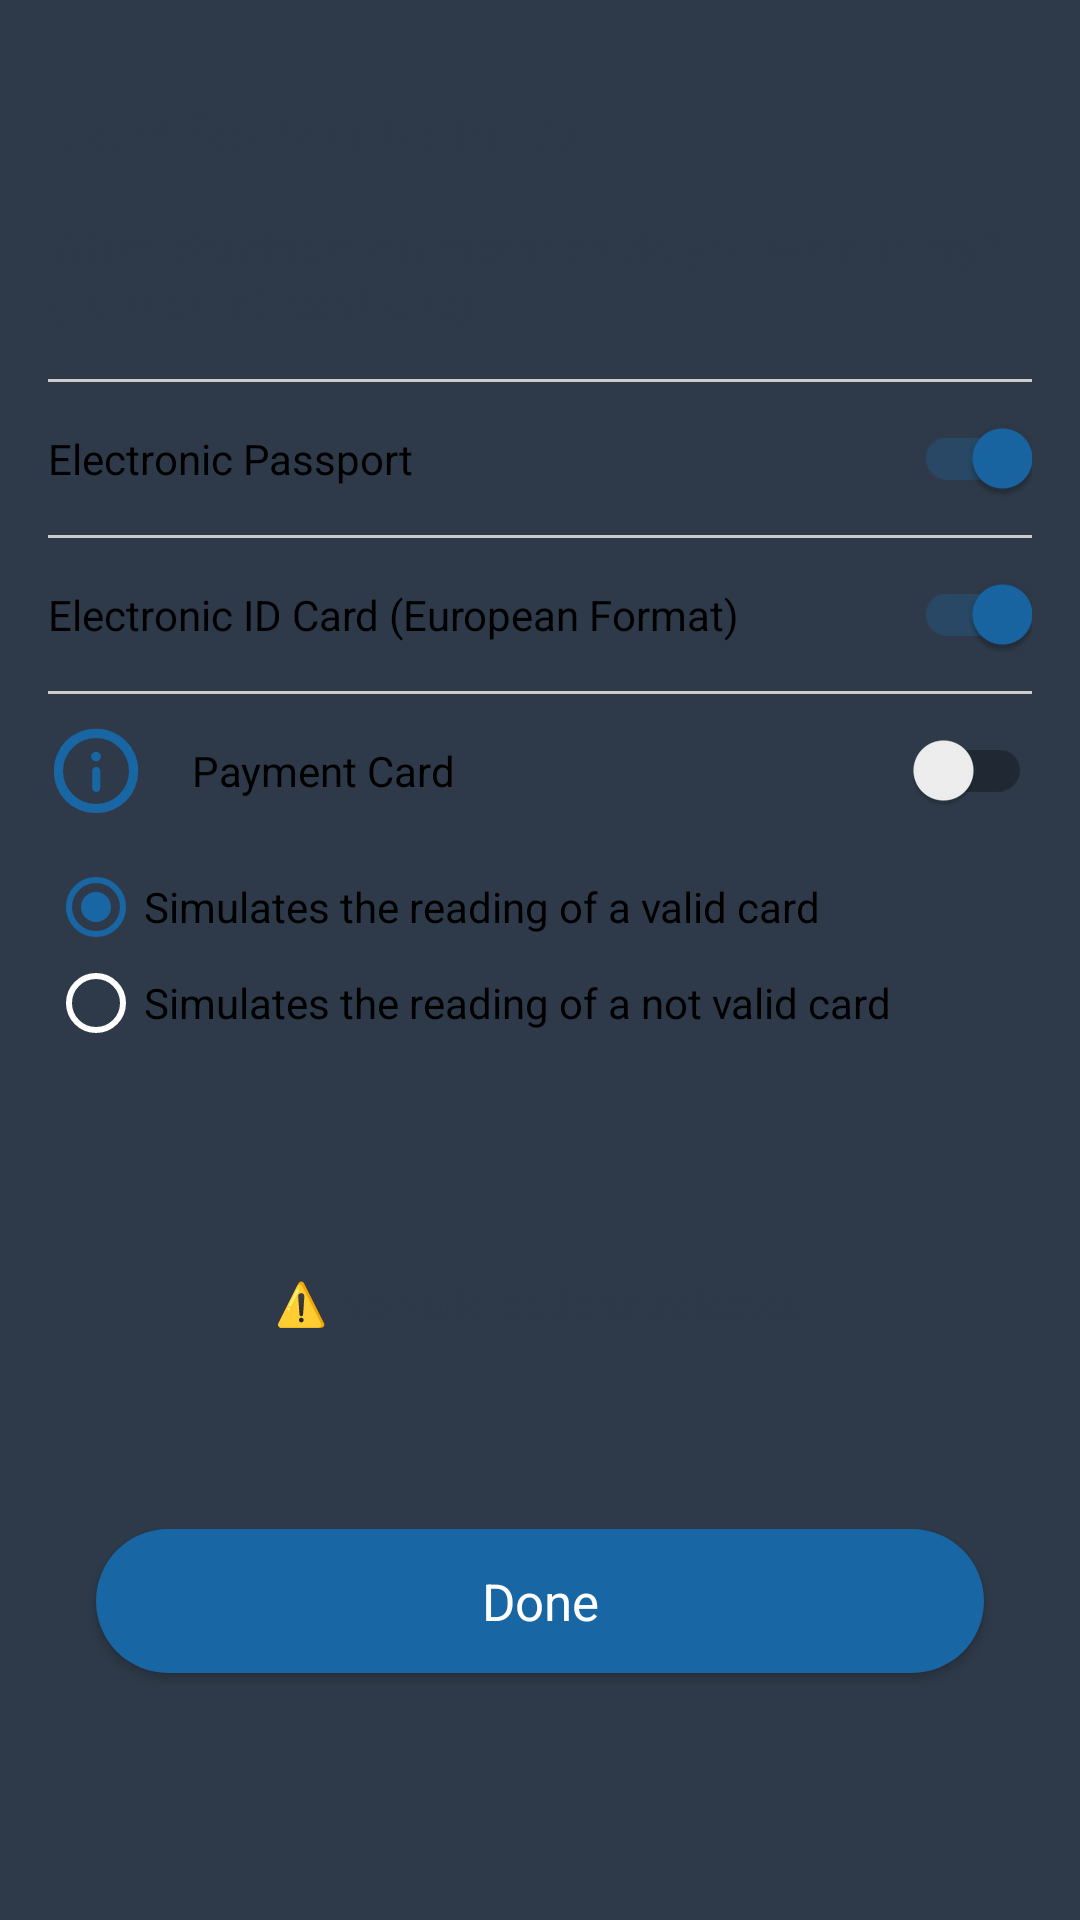

Named icons in this screenshot (1080px×1920px) and their centers, (x,y):
info: (96,771)
